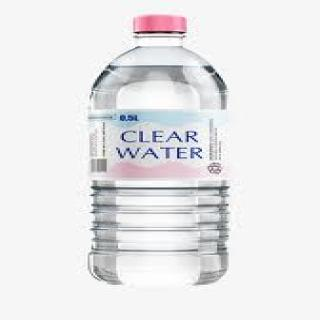Plastic-bottle: (83, 13, 237, 295)
